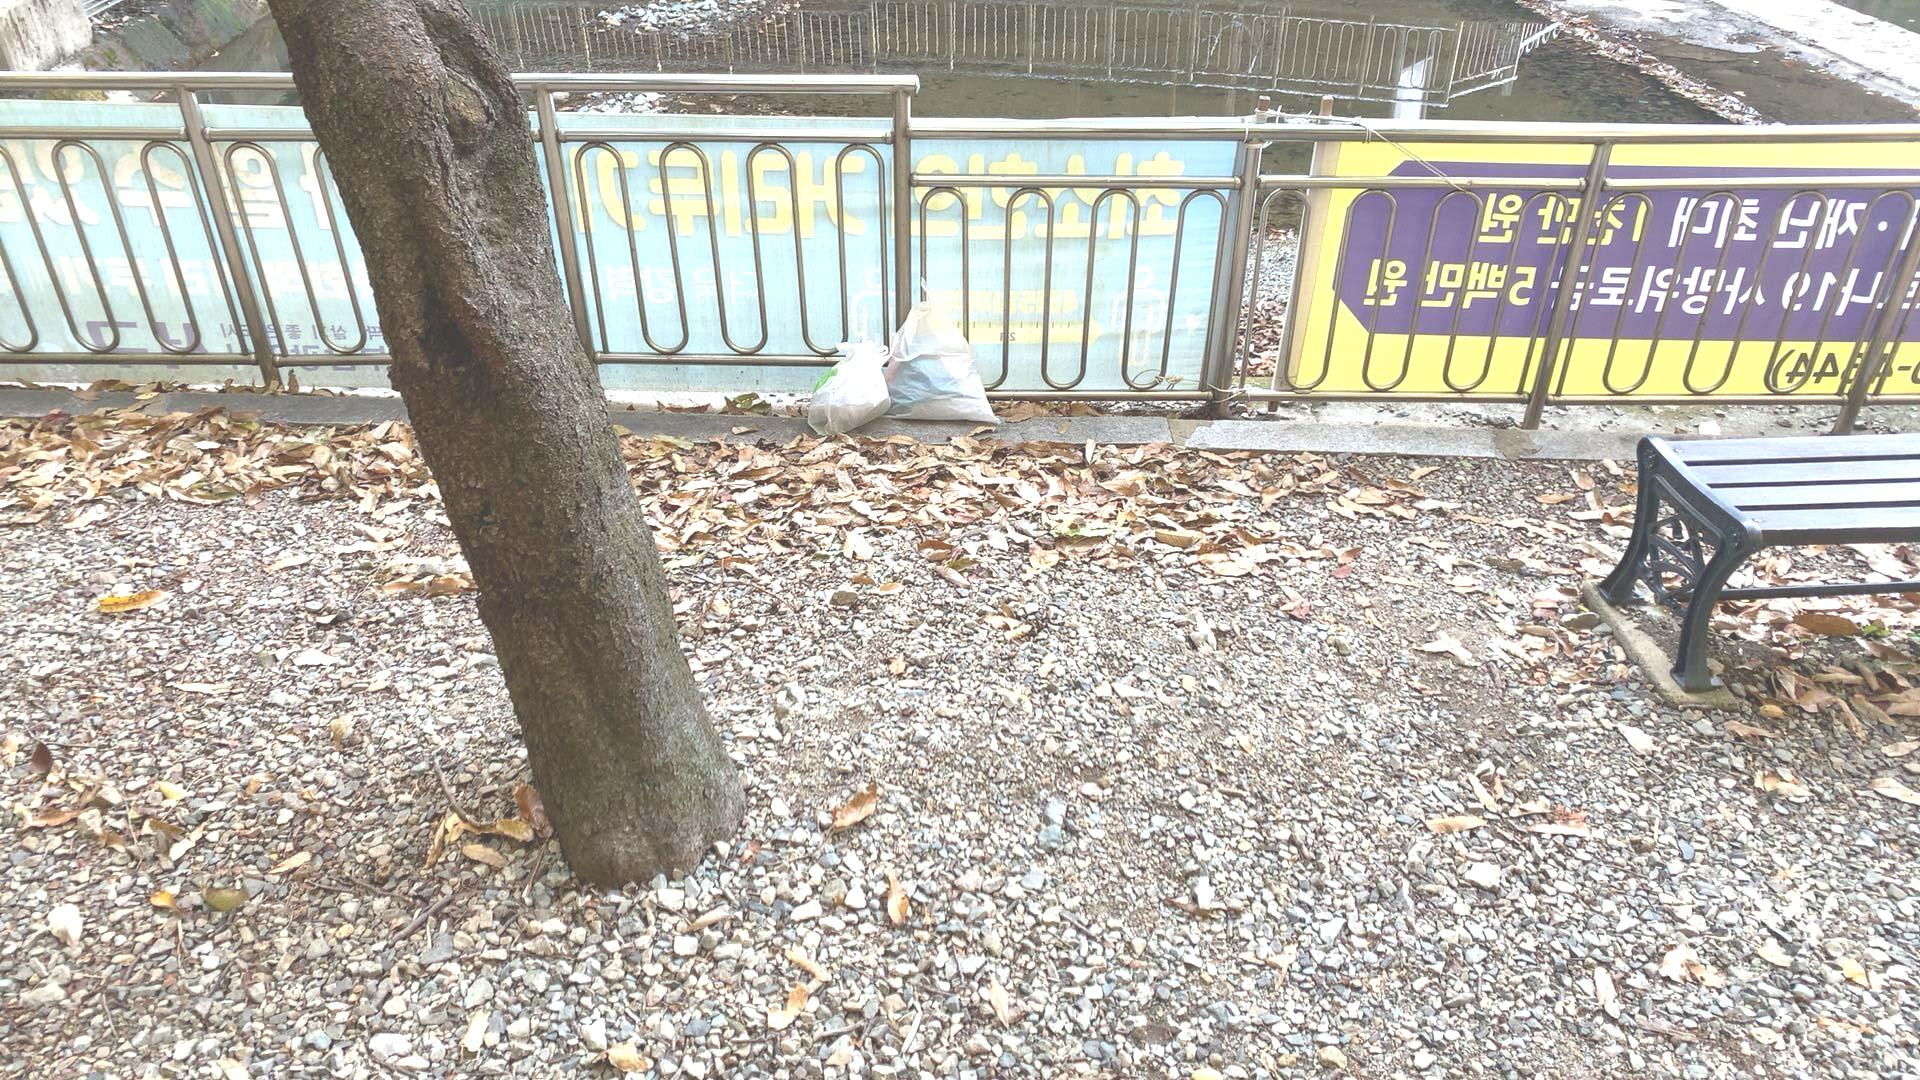white_bag: (881, 276, 1004, 425), (800, 338, 893, 435)
